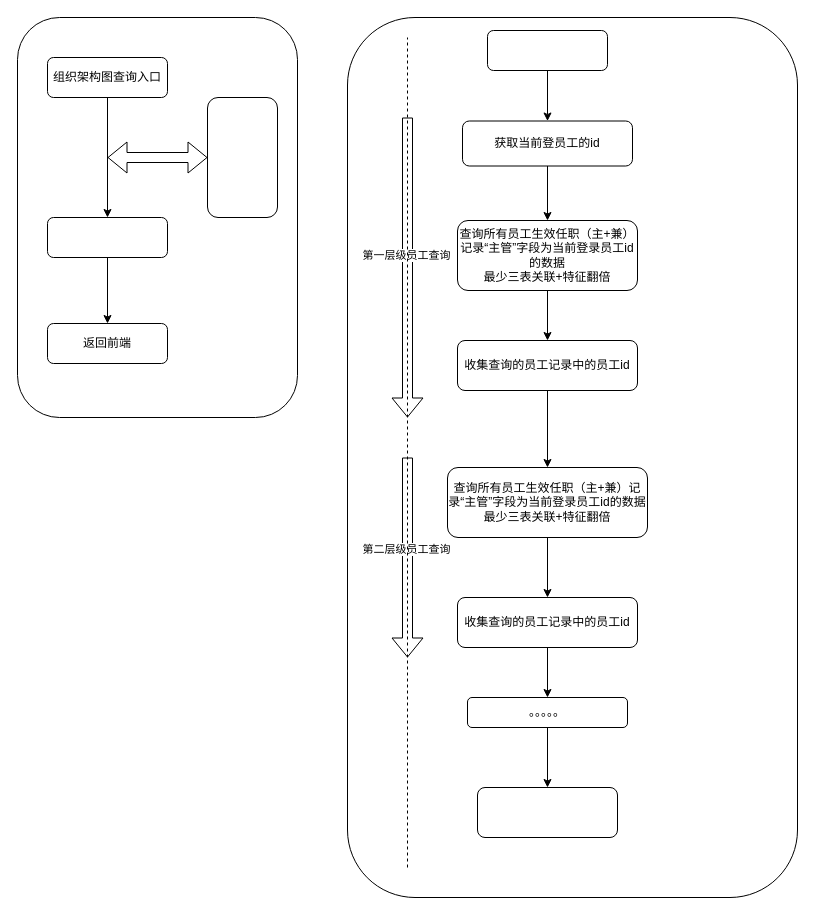
Some shapes in this 815 by 915 pixel diagram are drawn without their labels. Each missing label, with the box of its shape:
员工架构图入口: (486, 30, 608, 70)
整理树结构: (476, 786, 618, 838)
构建树形数据结构: (46, 216, 168, 258)
调用组织服务接口查询所有组织部门数据: (206, 96, 278, 218)
